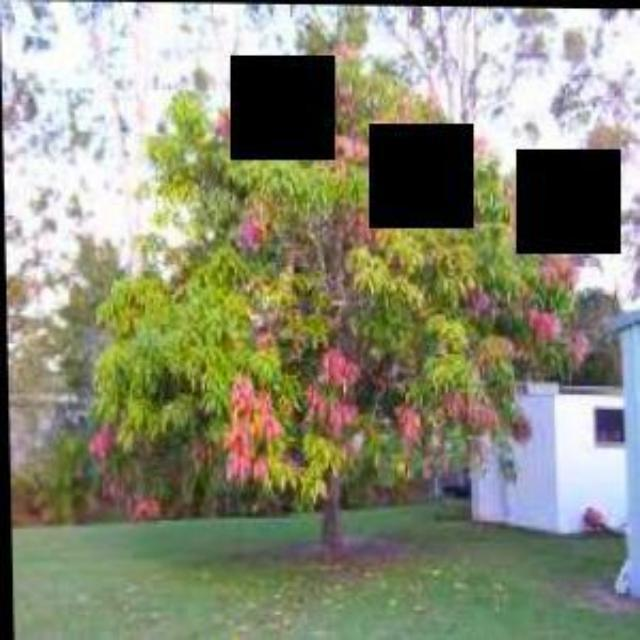tree: (92, 39, 584, 563)
